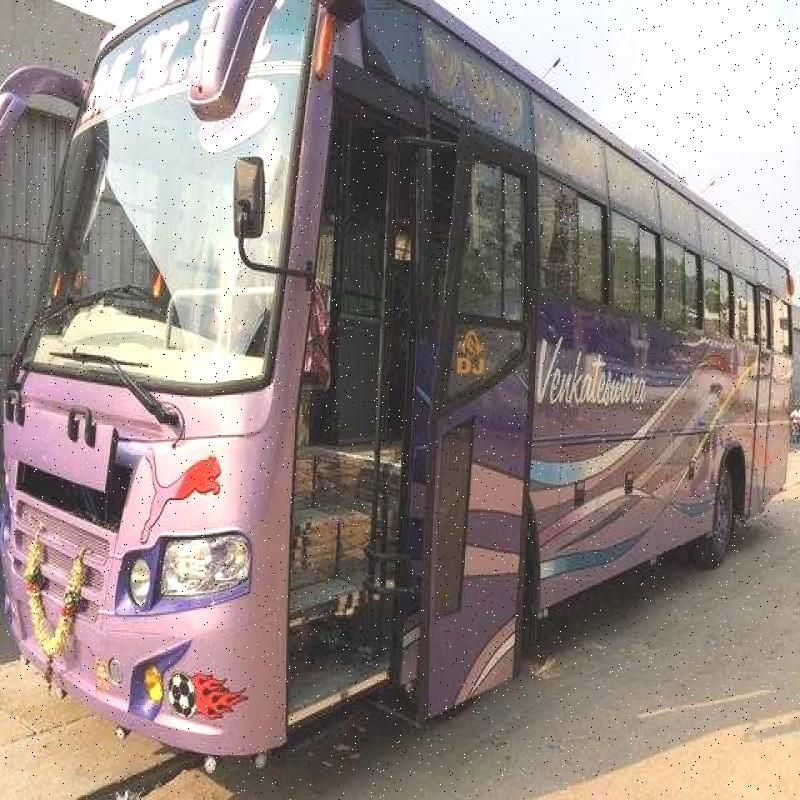bus: (28, 0, 788, 757)
